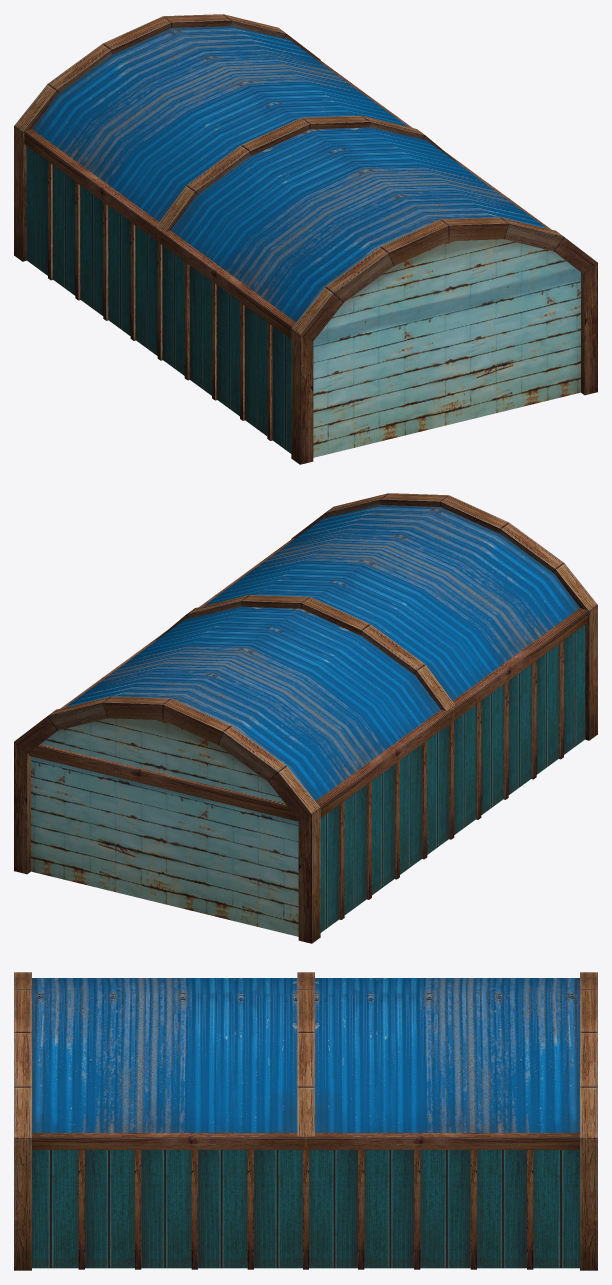
3 renders of one model, top to bottom at view 1: azimuth 30°, elevation 25°; view 2: azimuth 150°, elevation 25°; view 3: azimuth 270°, elevation 25°, orthographic. The views are drawn at different scales.
Parts seen in each view (by area): view 1: Box03; view 2: Box03; view 3: Box03.
Boxes of the visible parts, x1,y1,x2,y2 form: Box03: (14,14,597,464); Box03: (14,493,597,943); Box03: (14,972,597,1270).
Bounding box in the file's own units: 0.5708 × 0.9491 × 0.3715.
